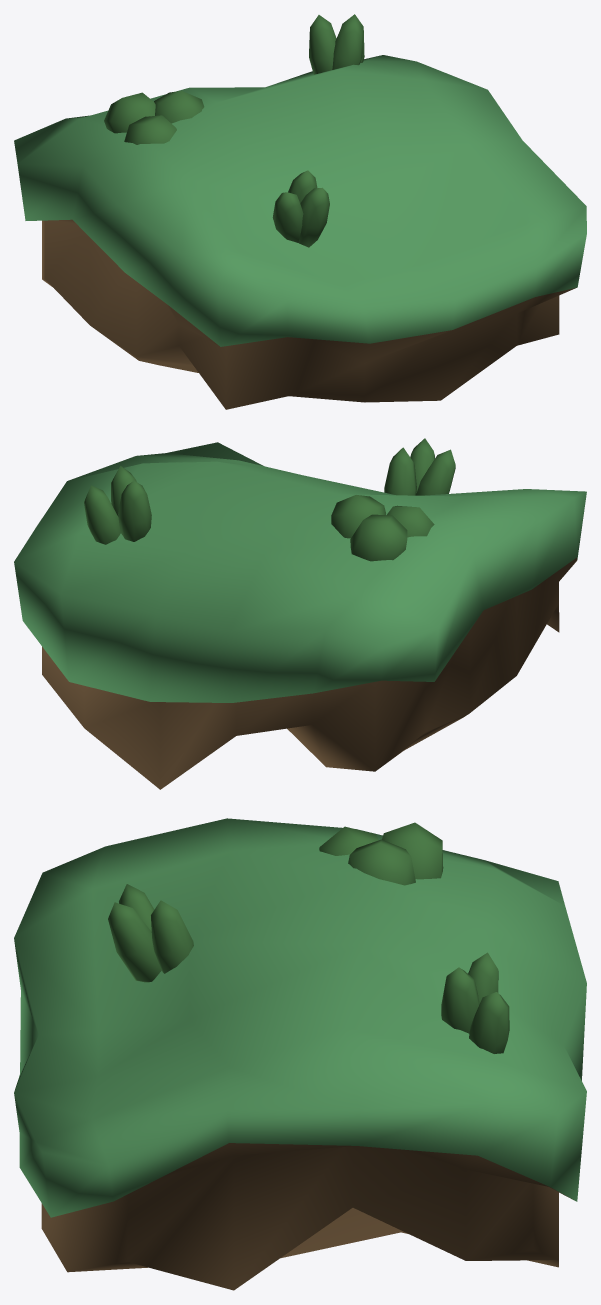
File: island03-4.fbx
The picture shows the model from 3 angles, top to bottom: view 1: azimuth 30°, elevation 25°; view 2: azimuth 150°, elevation 25°; view 3: azimuth 270°, elevation 25°; orthographic projection. The views are drawn at different scales.
Parts seen in each view (by area): view 1: island03-4; view 2: island03-4; view 3: island03-4.
Part boxes in pixels (x1=…): island03-4: x1=14, y1=14, x2=586, y2=409; island03-4: x1=14, y1=438, x2=586, y2=789; island03-4: x1=14, y1=818, x2=586, y2=1290.
Bounding box in the file's own units: 5542 × 3563 × 5163.
